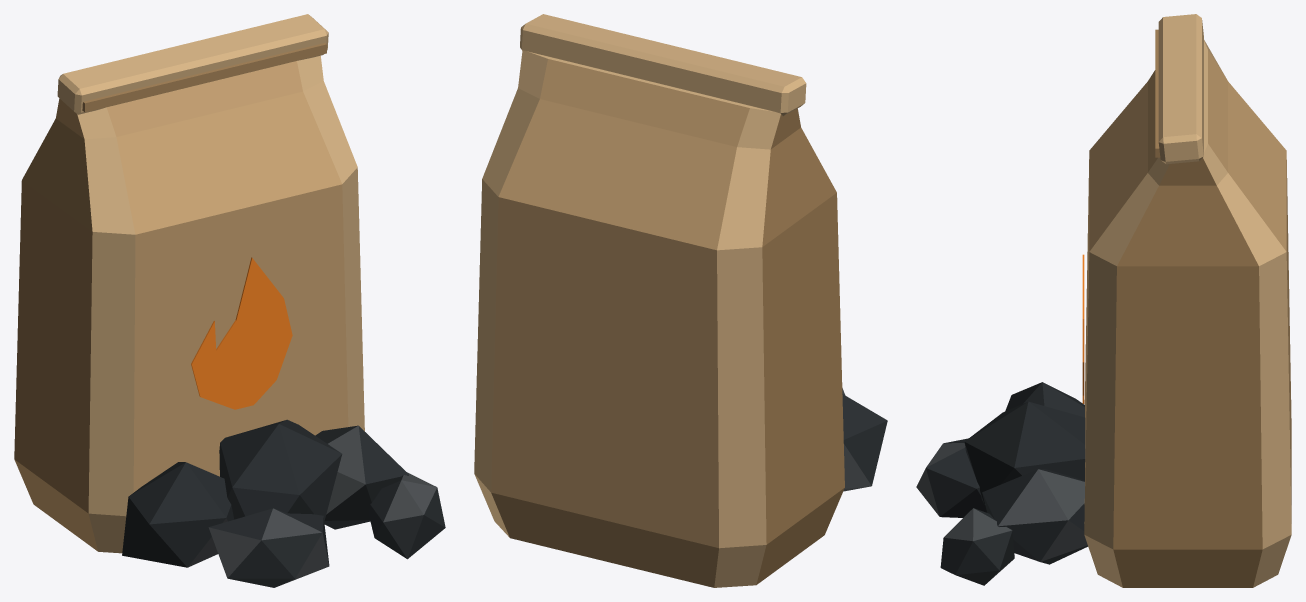
The model's file is charcoal-bag.glb.
3 renders of one model, left to right at view 1: azimuth 30°, elevation 25°; view 2: azimuth 150°, elevation 25°; view 3: azimuth 270°, elevation 25°, orthographic. The views are drawn at different scales.
Parts seen in each view (by area): view 1: charcoal-bag; view 2: charcoal-bag; view 3: charcoal-bag.
Boxes of the visible parts, <box> form: charcoal-bag: <box>14,14,445,587</box>; charcoal-bag: <box>474,14,887,587</box>; charcoal-bag: <box>916,14,1291,587</box>.
Size of the model in its own units: 0.1983 by 0.299 by 0.2245.
